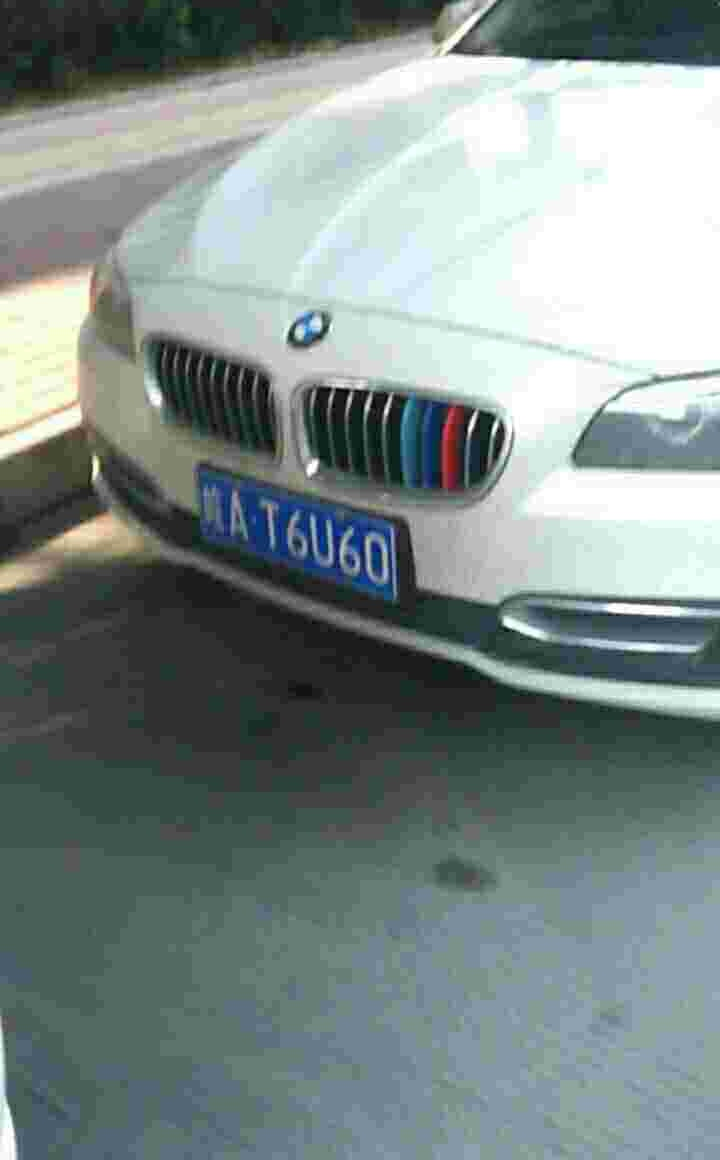license_plate: (199, 470, 406, 607)
